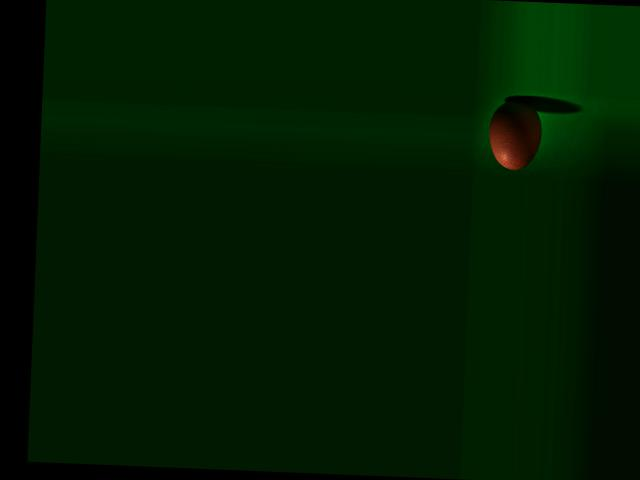egg: (487, 98, 543, 170)
